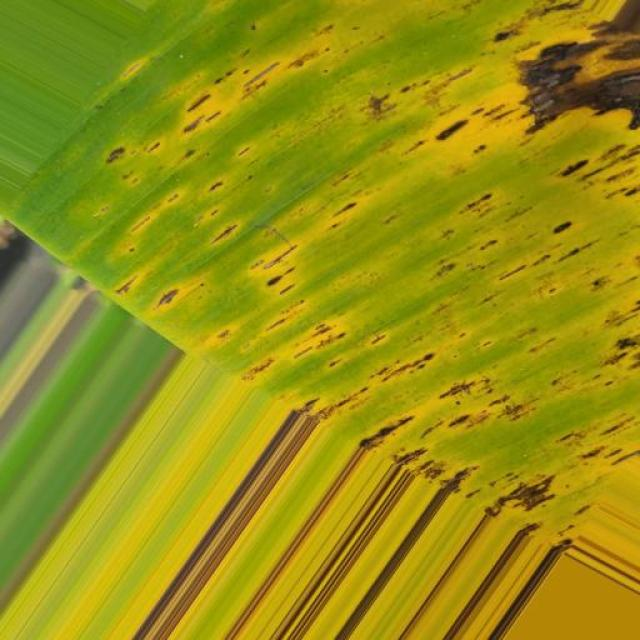Early_rust: (21, 14, 640, 541)
